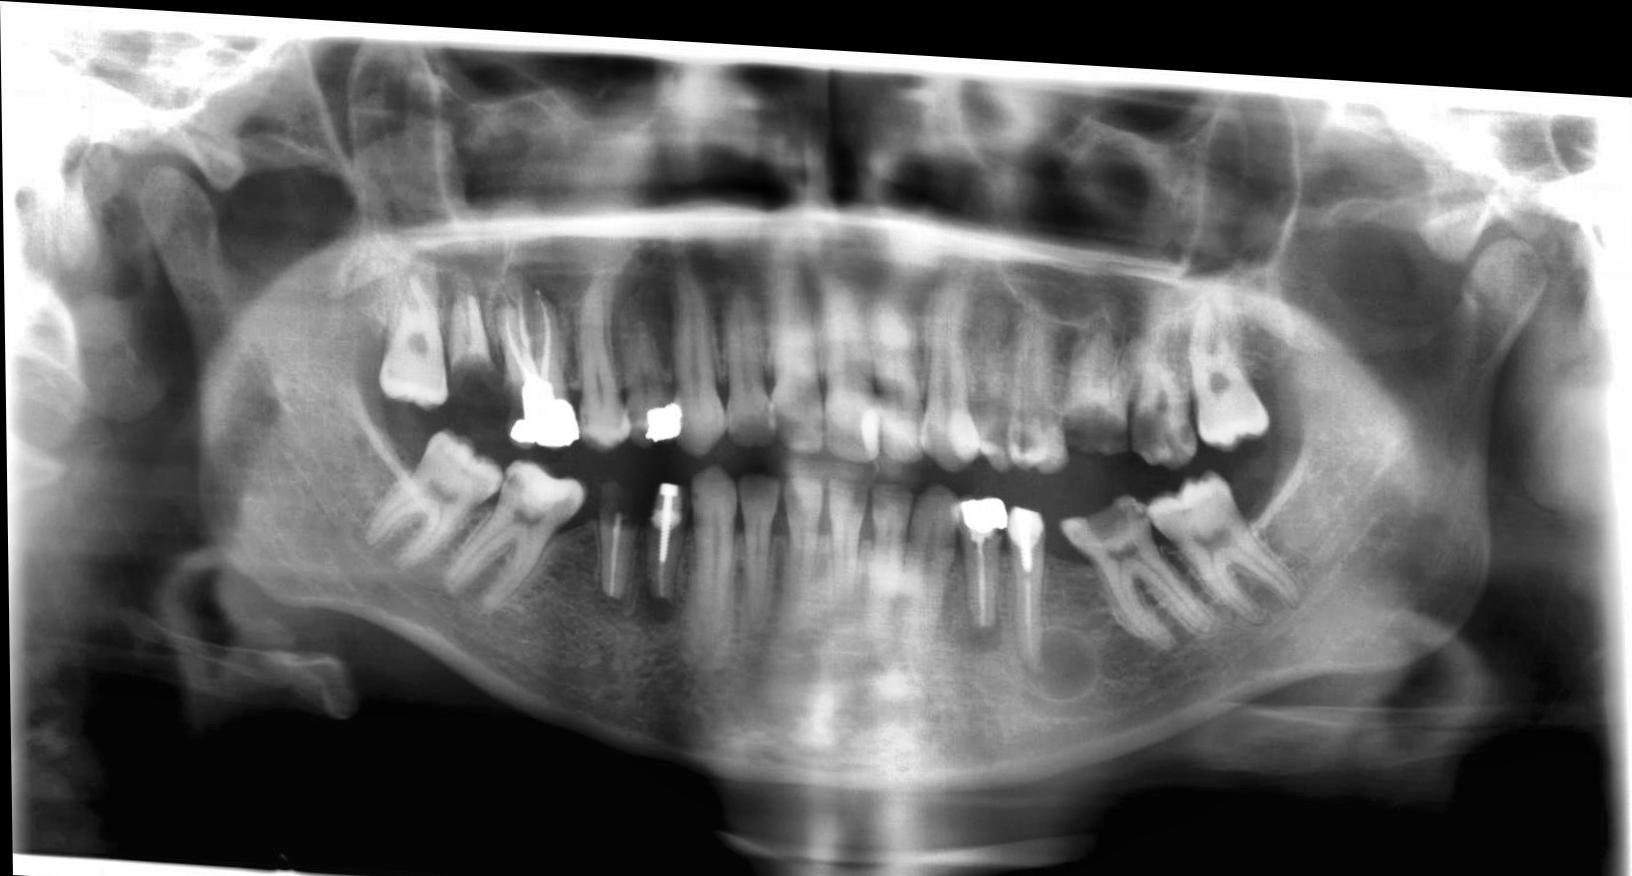radikuler: (1016, 612, 1100, 692), (634, 570, 679, 622), (958, 594, 1006, 641)
